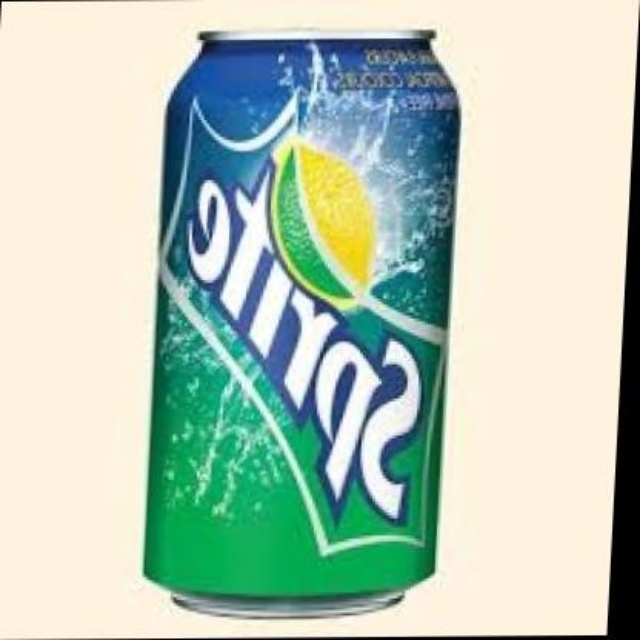trash: (145, 31, 457, 615)
